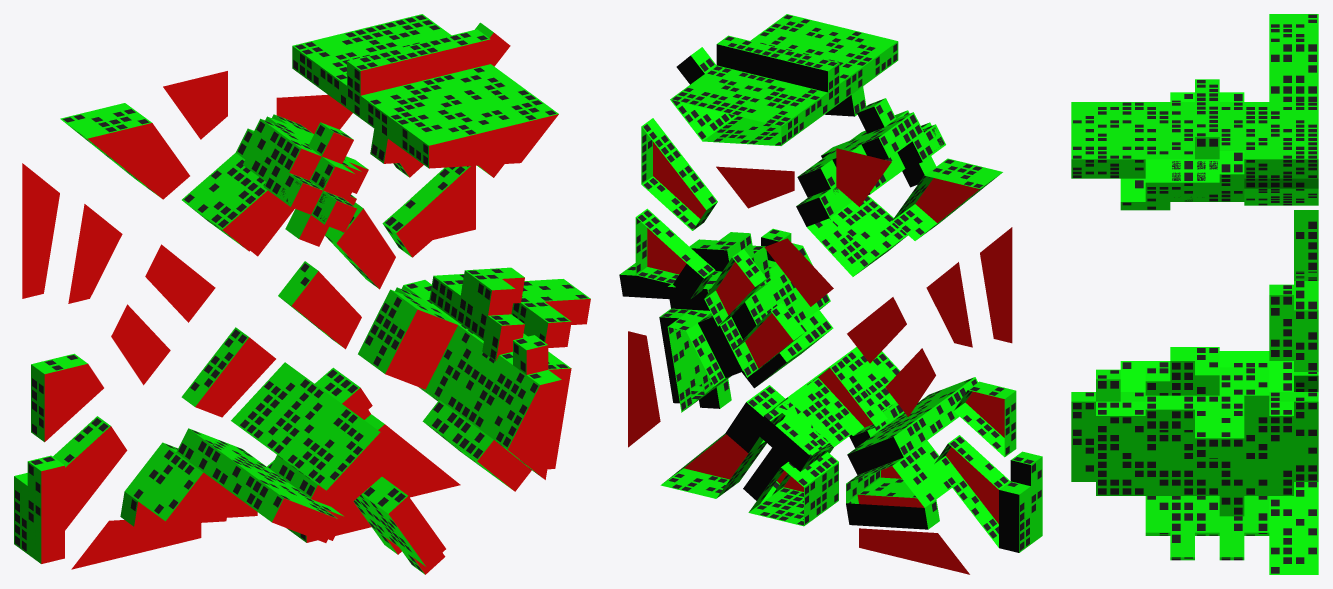
Rendered from my_city7.obj.
3 views of the same model, side by side, from view 1: azimuth 30°, elevation 25°; view 2: azimuth 150°, elevation 25°; view 3: azimuth 270°, elevation 25° (orthographic). The views are drawn at different scales.
Parts seen in each view (by area): view 1: fixed, panel, glass, up, vertical; view 2: fixed, panel, glass, vertical; view 3: panel, glass, fixed, vertical.
Boxes of the visible parts, bbox=[...] form: fixed: bbox=[14, 14, 576, 574]; panel: bbox=[14, 22, 583, 566]; glass: bbox=[15, 15, 587, 572]; up: bbox=[289, 114, 590, 491]; vertical: bbox=[275, 106, 590, 478]; fixed: bbox=[619, 22, 1042, 574]; panel: bbox=[620, 16, 1042, 547]; glass: bbox=[628, 15, 1041, 550]; vertical: bbox=[697, 14, 945, 353]; panel: bbox=[1071, 14, 1318, 574]; glass: bbox=[1073, 14, 1316, 573]; fixed: bbox=[1096, 14, 1318, 574]; vertical: bbox=[1071, 92, 1219, 495].
Size of the model in its own units: 107 by 102 by 50.
